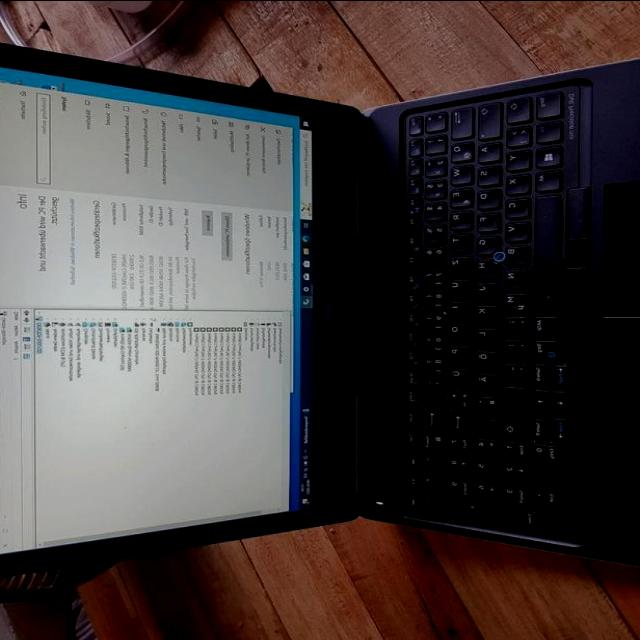0: (419, 331, 442, 349)
1: (420, 131, 443, 152)
2: (420, 154, 443, 174)
3: (420, 176, 443, 197)
4: (419, 198, 443, 218)
5: (420, 221, 443, 241)
6: (419, 242, 442, 262)
7: (419, 265, 443, 285)
8: (419, 287, 443, 307)
9: (419, 308, 442, 328)
a: (473, 138, 498, 159)
accent: (419, 374, 442, 394)
ae: (471, 370, 496, 390)
alt-left: (530, 167, 558, 188)
altgr-right: (529, 312, 556, 333)
b: (501, 242, 525, 262)
c: (500, 195, 526, 215)
caret: (421, 107, 443, 128)
comma: (499, 312, 525, 332)
d: (472, 186, 497, 206)
del: (419, 397, 442, 427)
e: (445, 184, 470, 204)
enter: (446, 408, 497, 432)
f: (472, 209, 497, 229)
g: (471, 233, 495, 251)
h: (471, 255, 494, 275)
hash: (470, 393, 496, 413)
i: (445, 298, 468, 316)
j: (471, 279, 496, 297)
k: (471, 301, 496, 321)
keyboard: (393, 78, 580, 543)
l: (471, 324, 496, 344)
less: (501, 122, 528, 144)
m: (499, 288, 526, 309)
minus: (499, 359, 525, 379)
n: (499, 265, 525, 285)
o: (445, 320, 469, 340)
oe: (472, 347, 497, 367)
p: (445, 342, 469, 362)
plus: (444, 387, 469, 407)
point: (500, 336, 525, 356)
q: (446, 138, 470, 159)
r: (444, 207, 469, 227)
s: (473, 163, 497, 183)
shift-left: (502, 93, 528, 120)
shift-lock: (473, 98, 498, 137)
shift-right: (499, 383, 525, 436)
space: (529, 192, 557, 308)
ss: (419, 351, 442, 371)
strg-left: (531, 86, 558, 116)
strg-right: (529, 337, 556, 357)
t: (445, 230, 468, 248)
tab: (446, 103, 470, 135)
u: (444, 276, 469, 294)
ue: (444, 364, 469, 384)
v: (500, 218, 526, 238)
w: (445, 161, 469, 181)
x: (501, 171, 527, 191)
y: (501, 146, 527, 167)
z: (445, 252, 468, 272)
